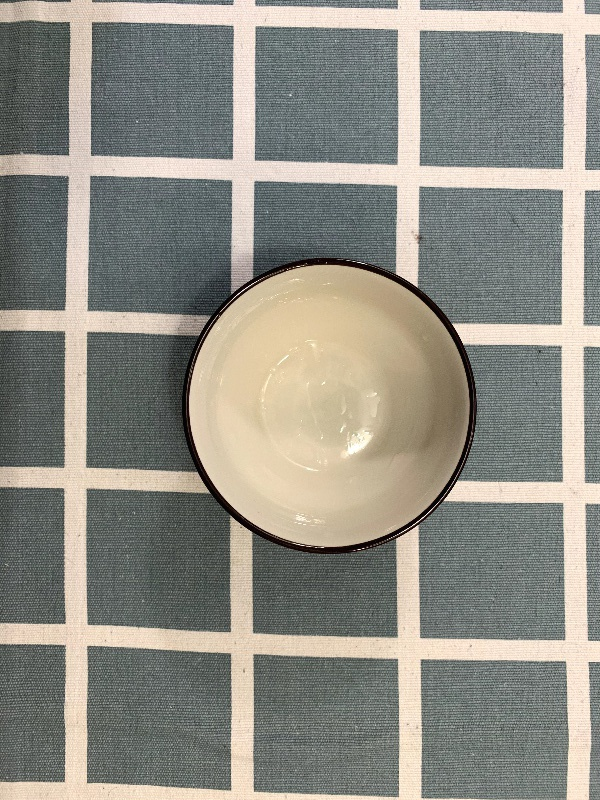bowl_small: (173, 248, 483, 562)
